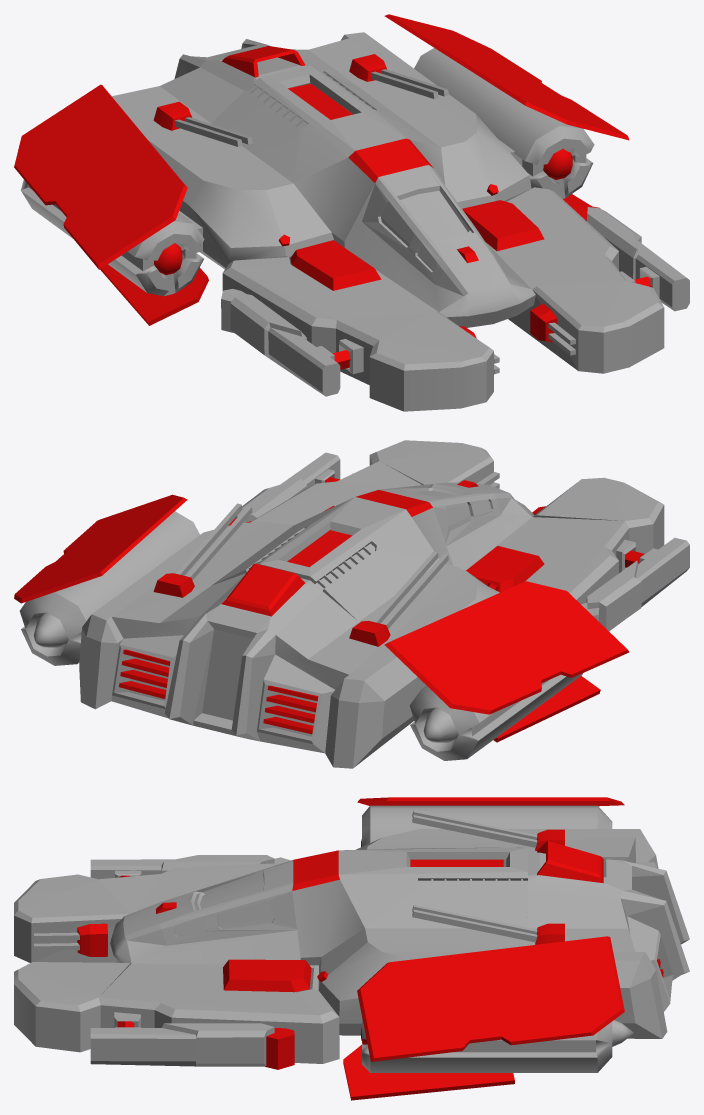
File: Zaiten4.fbx
3 renders of one model, top to bottom at view 1: azimuth 30°, elevation 25°; view 2: azimuth 150°, elevation 25°; view 3: azimuth 270°, elevation 25°, orthographic.
Visible parts, largest first — view 1: zaiten4_diffuse, zaiten4_color; view 2: zaiten4_diffuse, zaiten4_color; view 3: zaiten4_diffuse, zaiten4_color.
Part boxes in pixels (left/top/right/bottom): zaiten4_diffuse: left=21, top=32, right=689, bottom=411; zaiten4_color: left=14, top=14, right=651, bottom=369; zaiten4_diffuse: left=19, top=440, right=689, bottom=768; zaiten4_color: left=14, top=477, right=644, bottom=742; zaiten4_diffuse: left=14, top=805, right=689, bottom=1072; zaiten4_color: left=77, top=797, right=663, bottom=1100.
Bounding box in the file's own units: 9.59 × 2.48 × 10.72.
